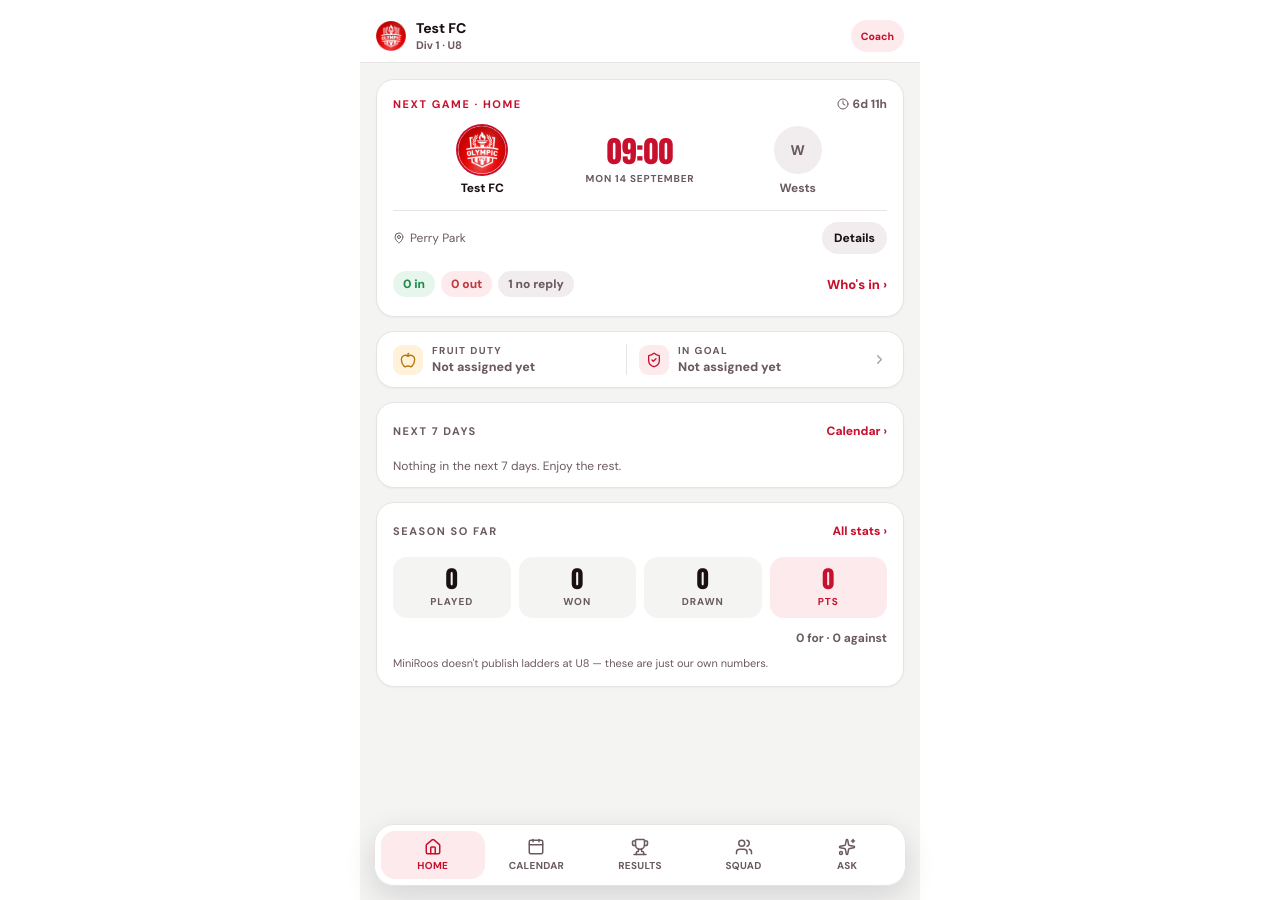
Test case: App — account-mode roles (/api/me) › one hat, one team: the sheet shows the worn coach hat with a check and no Other teams section
Click the button with aria-label "Viewing as" at point(877, 36), box [851, 20, 904, 52]
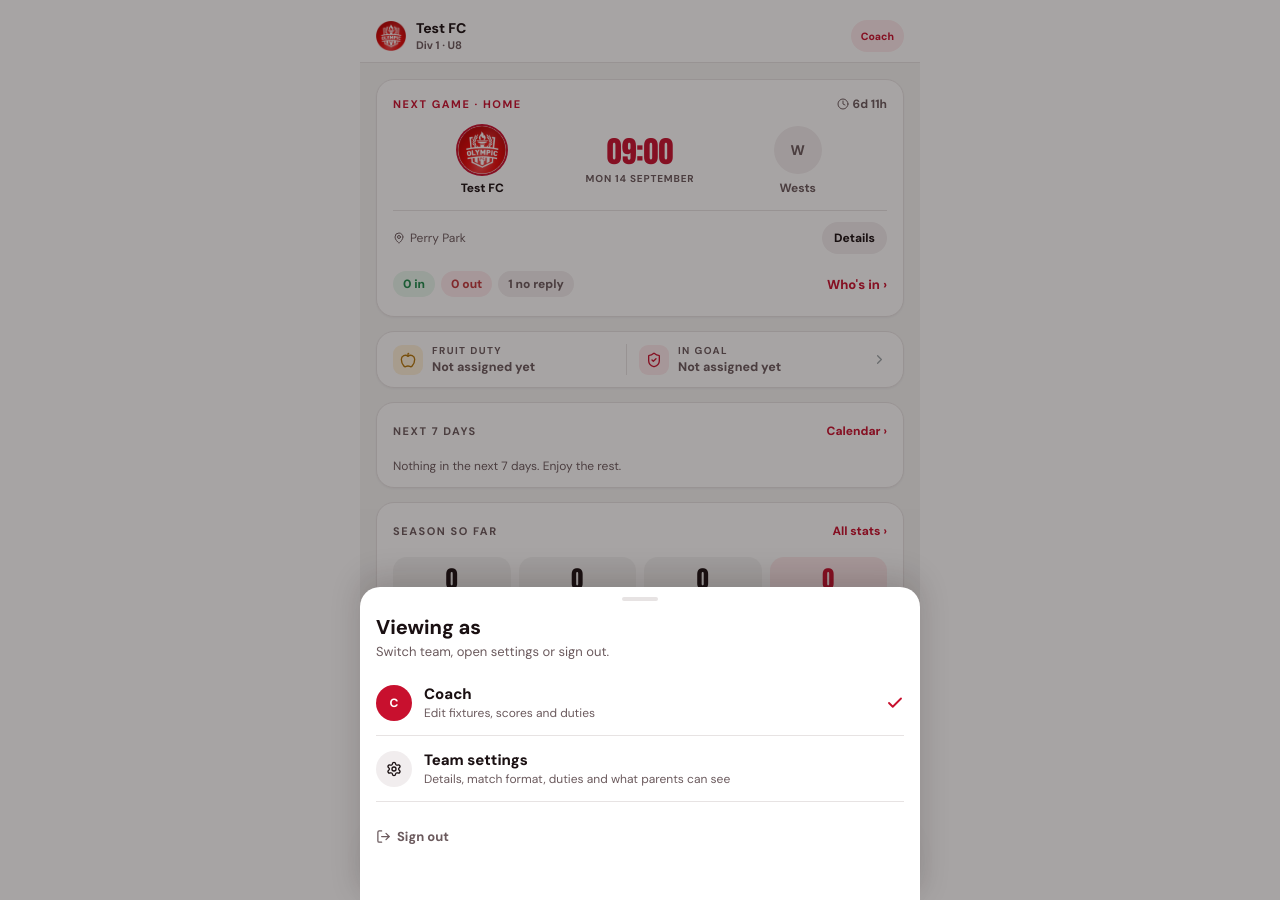
Now the text "Switch team, open settings or sign out." is shown, box [376, 643, 609, 660]
Now the text with class "disc" reads "C", box [390, 694, 398, 710]
Now the icon named "Current hat" is shown, box [886, 694, 904, 712]
